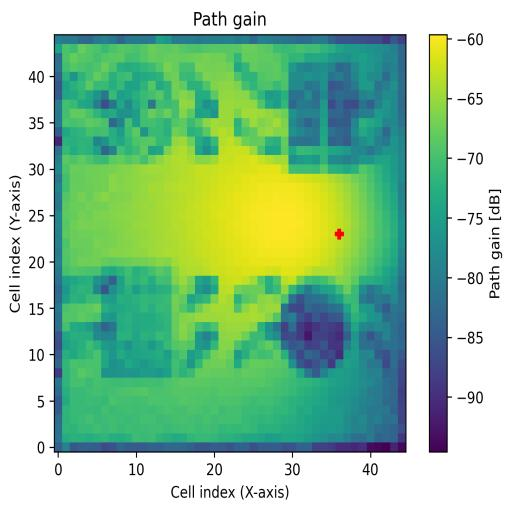Concrete: (290, 64, 360, 173)
Glass: (110, 63, 179, 162)
Metal: (282, 276, 350, 377)
Wood: (101, 266, 171, 377)
